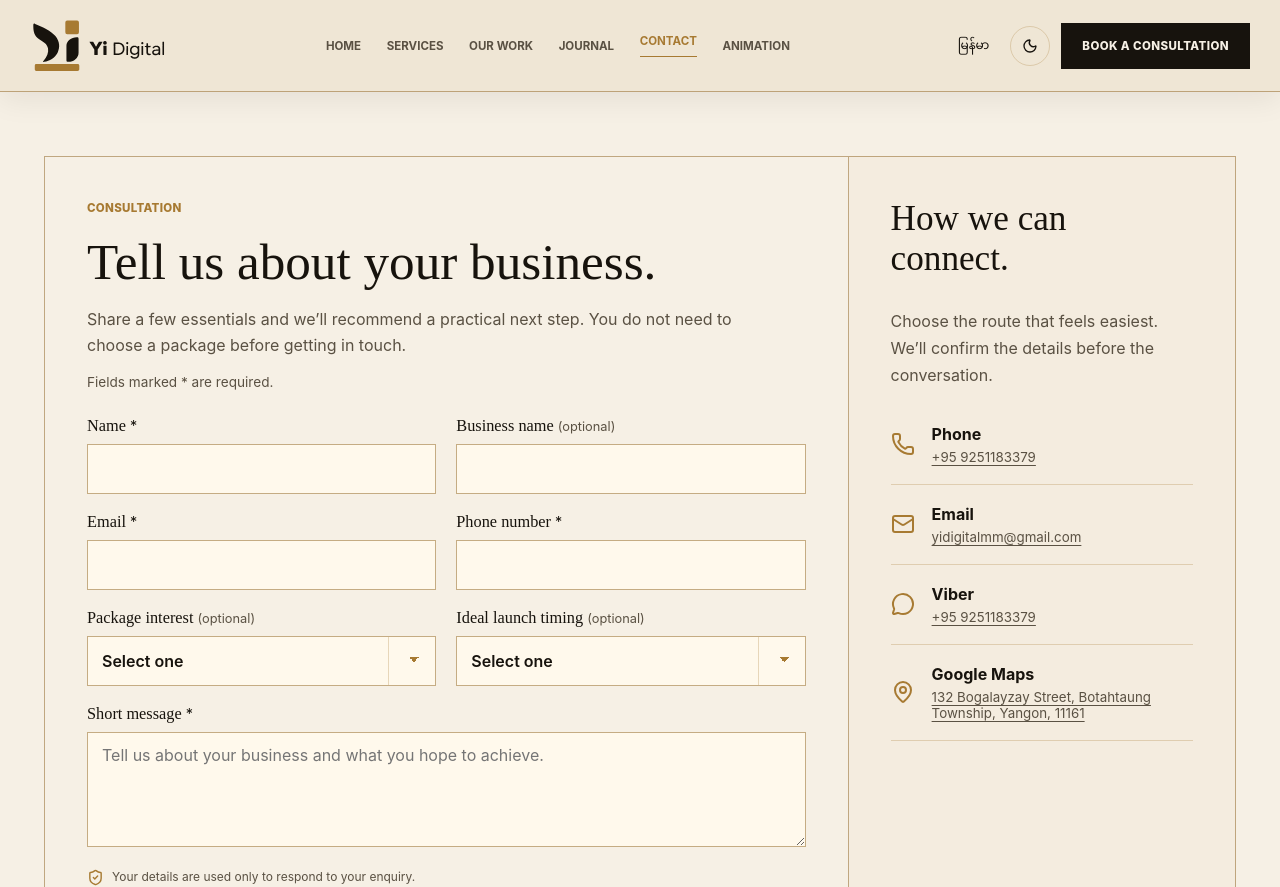
Test: contact submission UI › preserves the enquiry and offers email fallback after a service failure
Type "Test Customer" into the field labelled "Name" at coordinates (262, 469), box [87, 444, 436, 494]
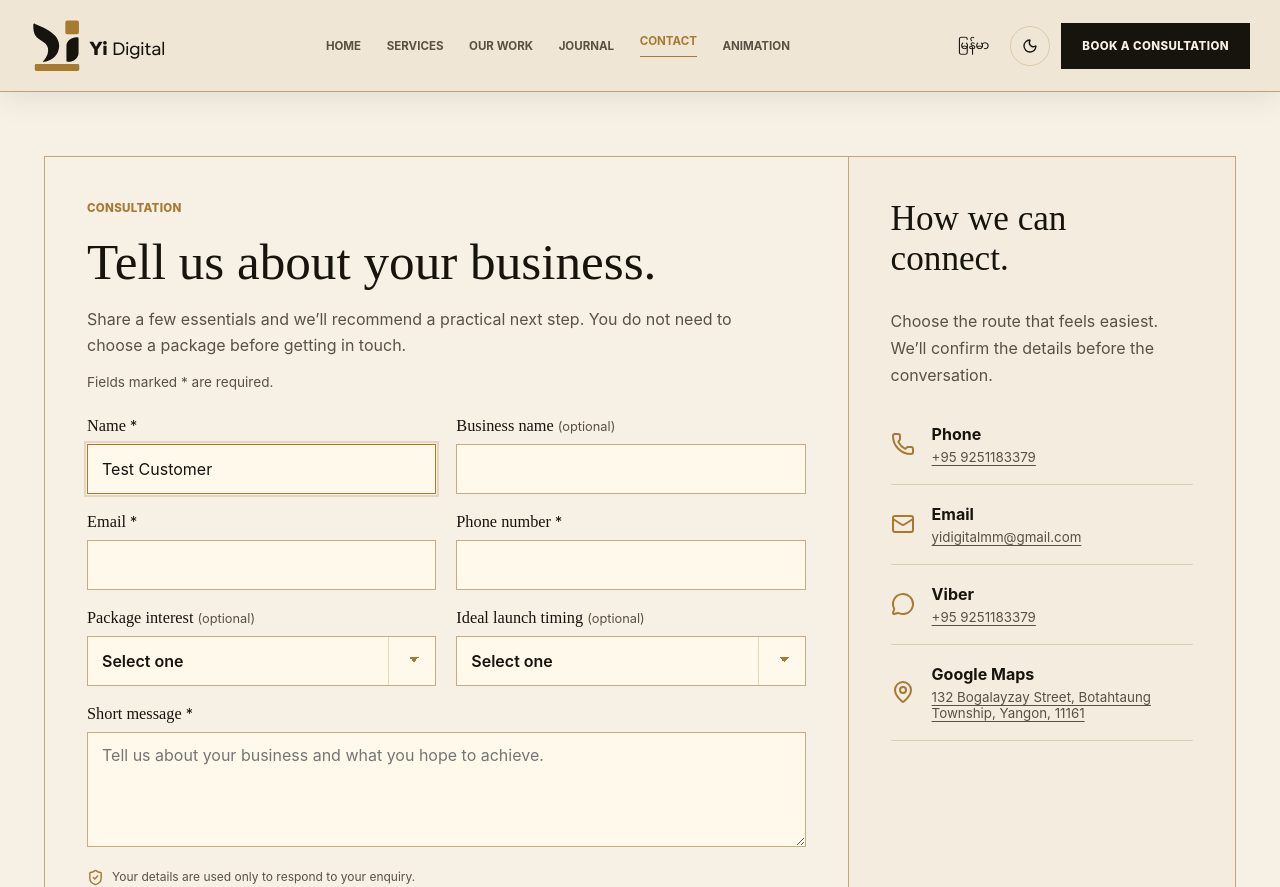
Type "customer@example.com" into the field labelled "Email" at coordinates (262, 565), box [87, 540, 436, 590]
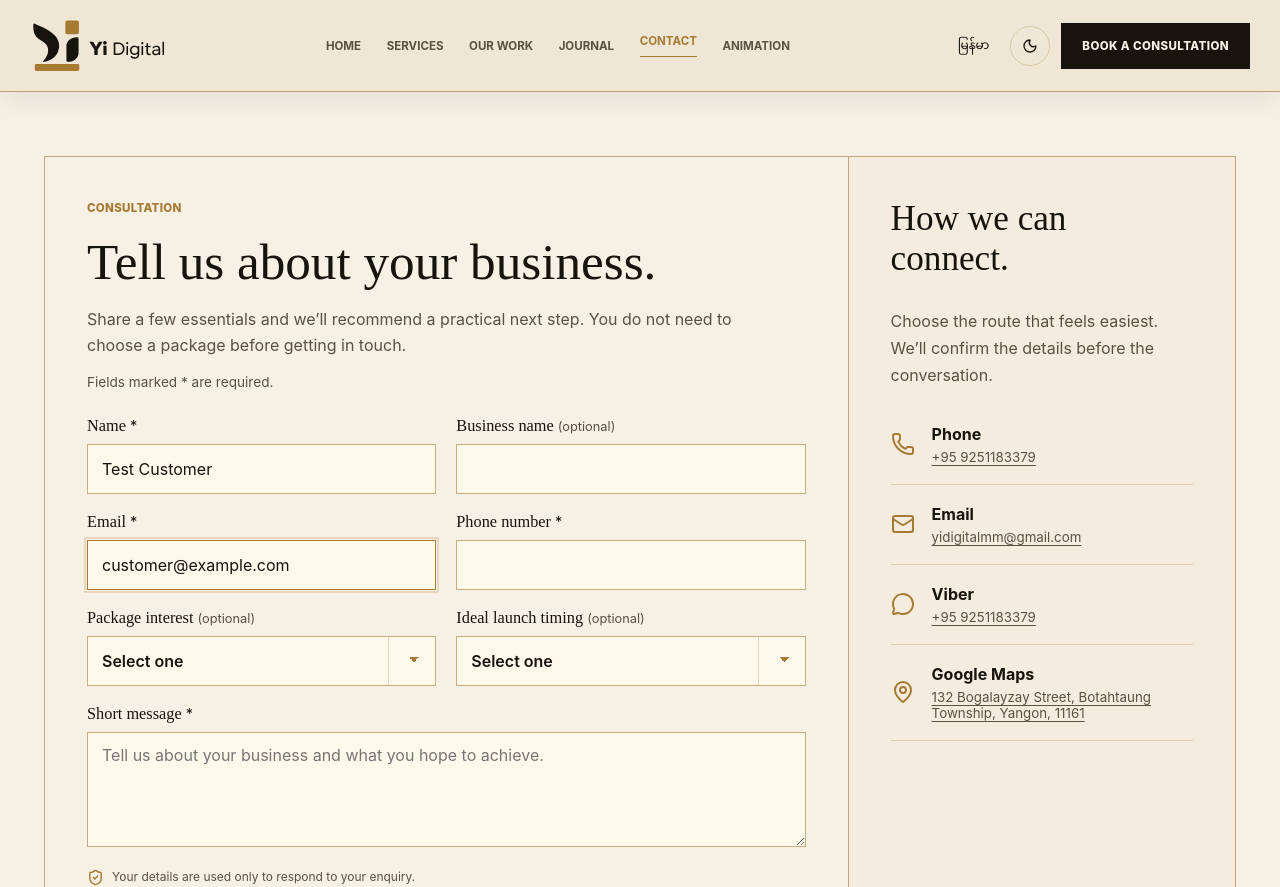
Type "+959123456789" into the field labelled "Phone number" at coordinates (631, 565), box [456, 540, 806, 590]
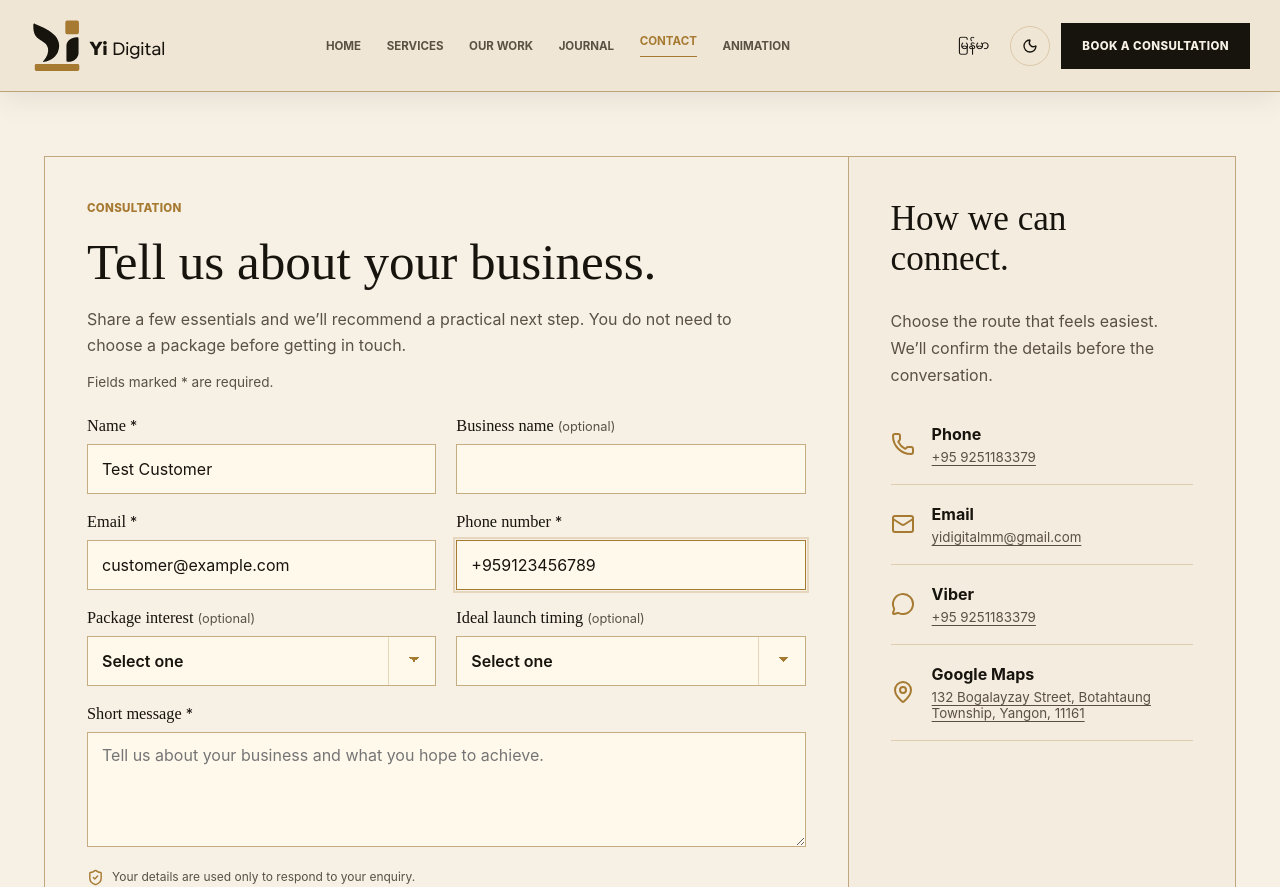
Type "Please help with my website." into the text box labelled "Short message" at coordinates (446, 790), box [87, 732, 806, 847]
(page scrolled)
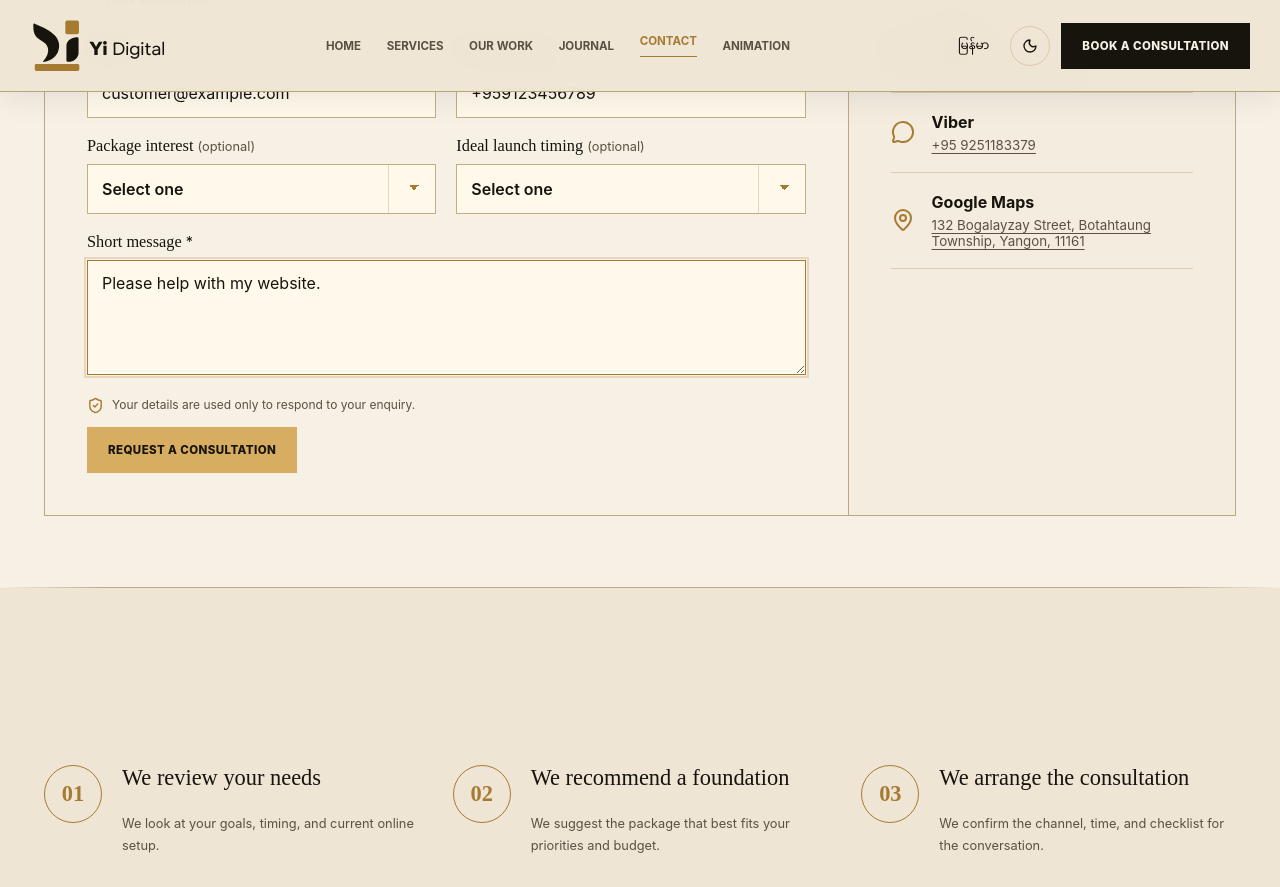
Click the button "Request a consultation" at coordinates (192, 450), box [87, 427, 297, 473]
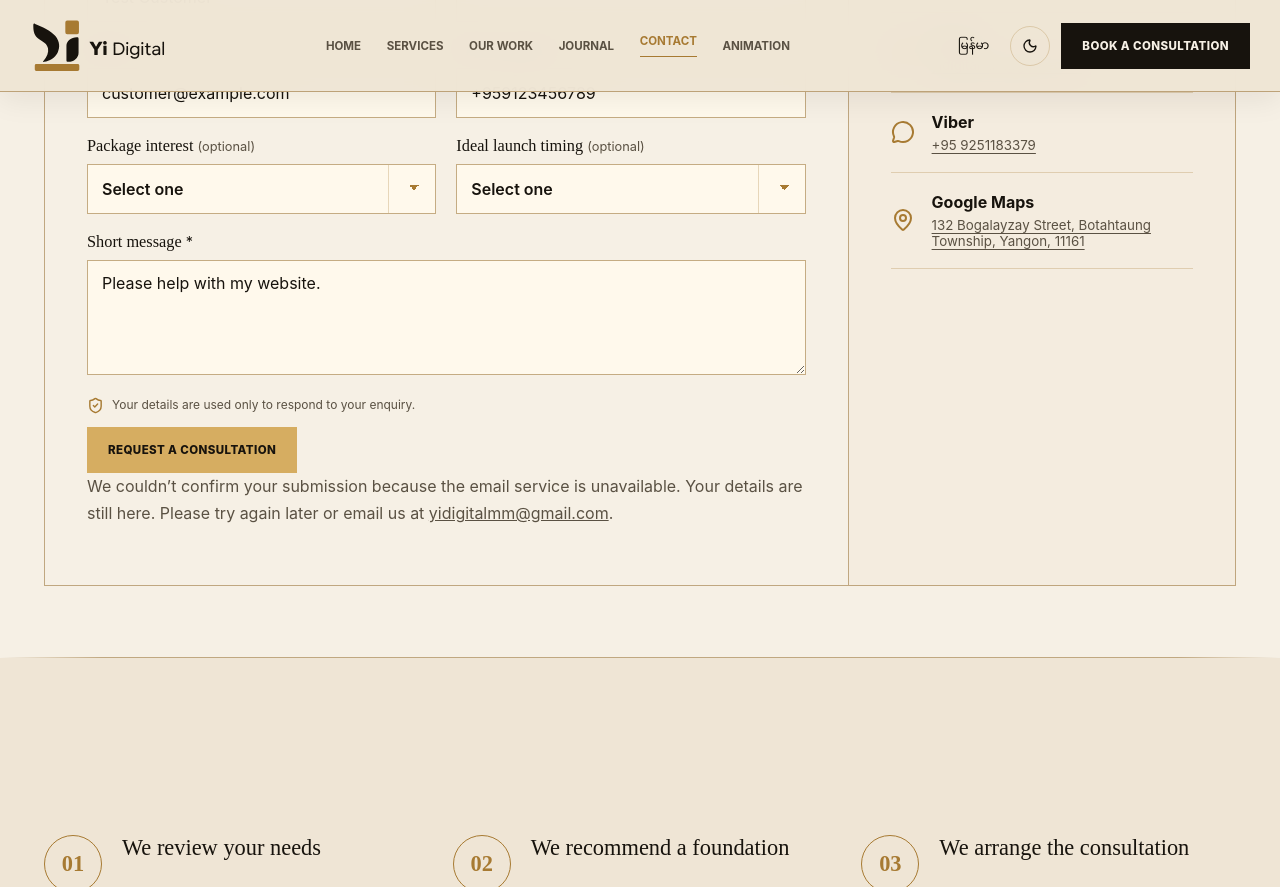
Check: the message shows "yidigitalmm@gmail.com", box [429, 503, 609, 523]
